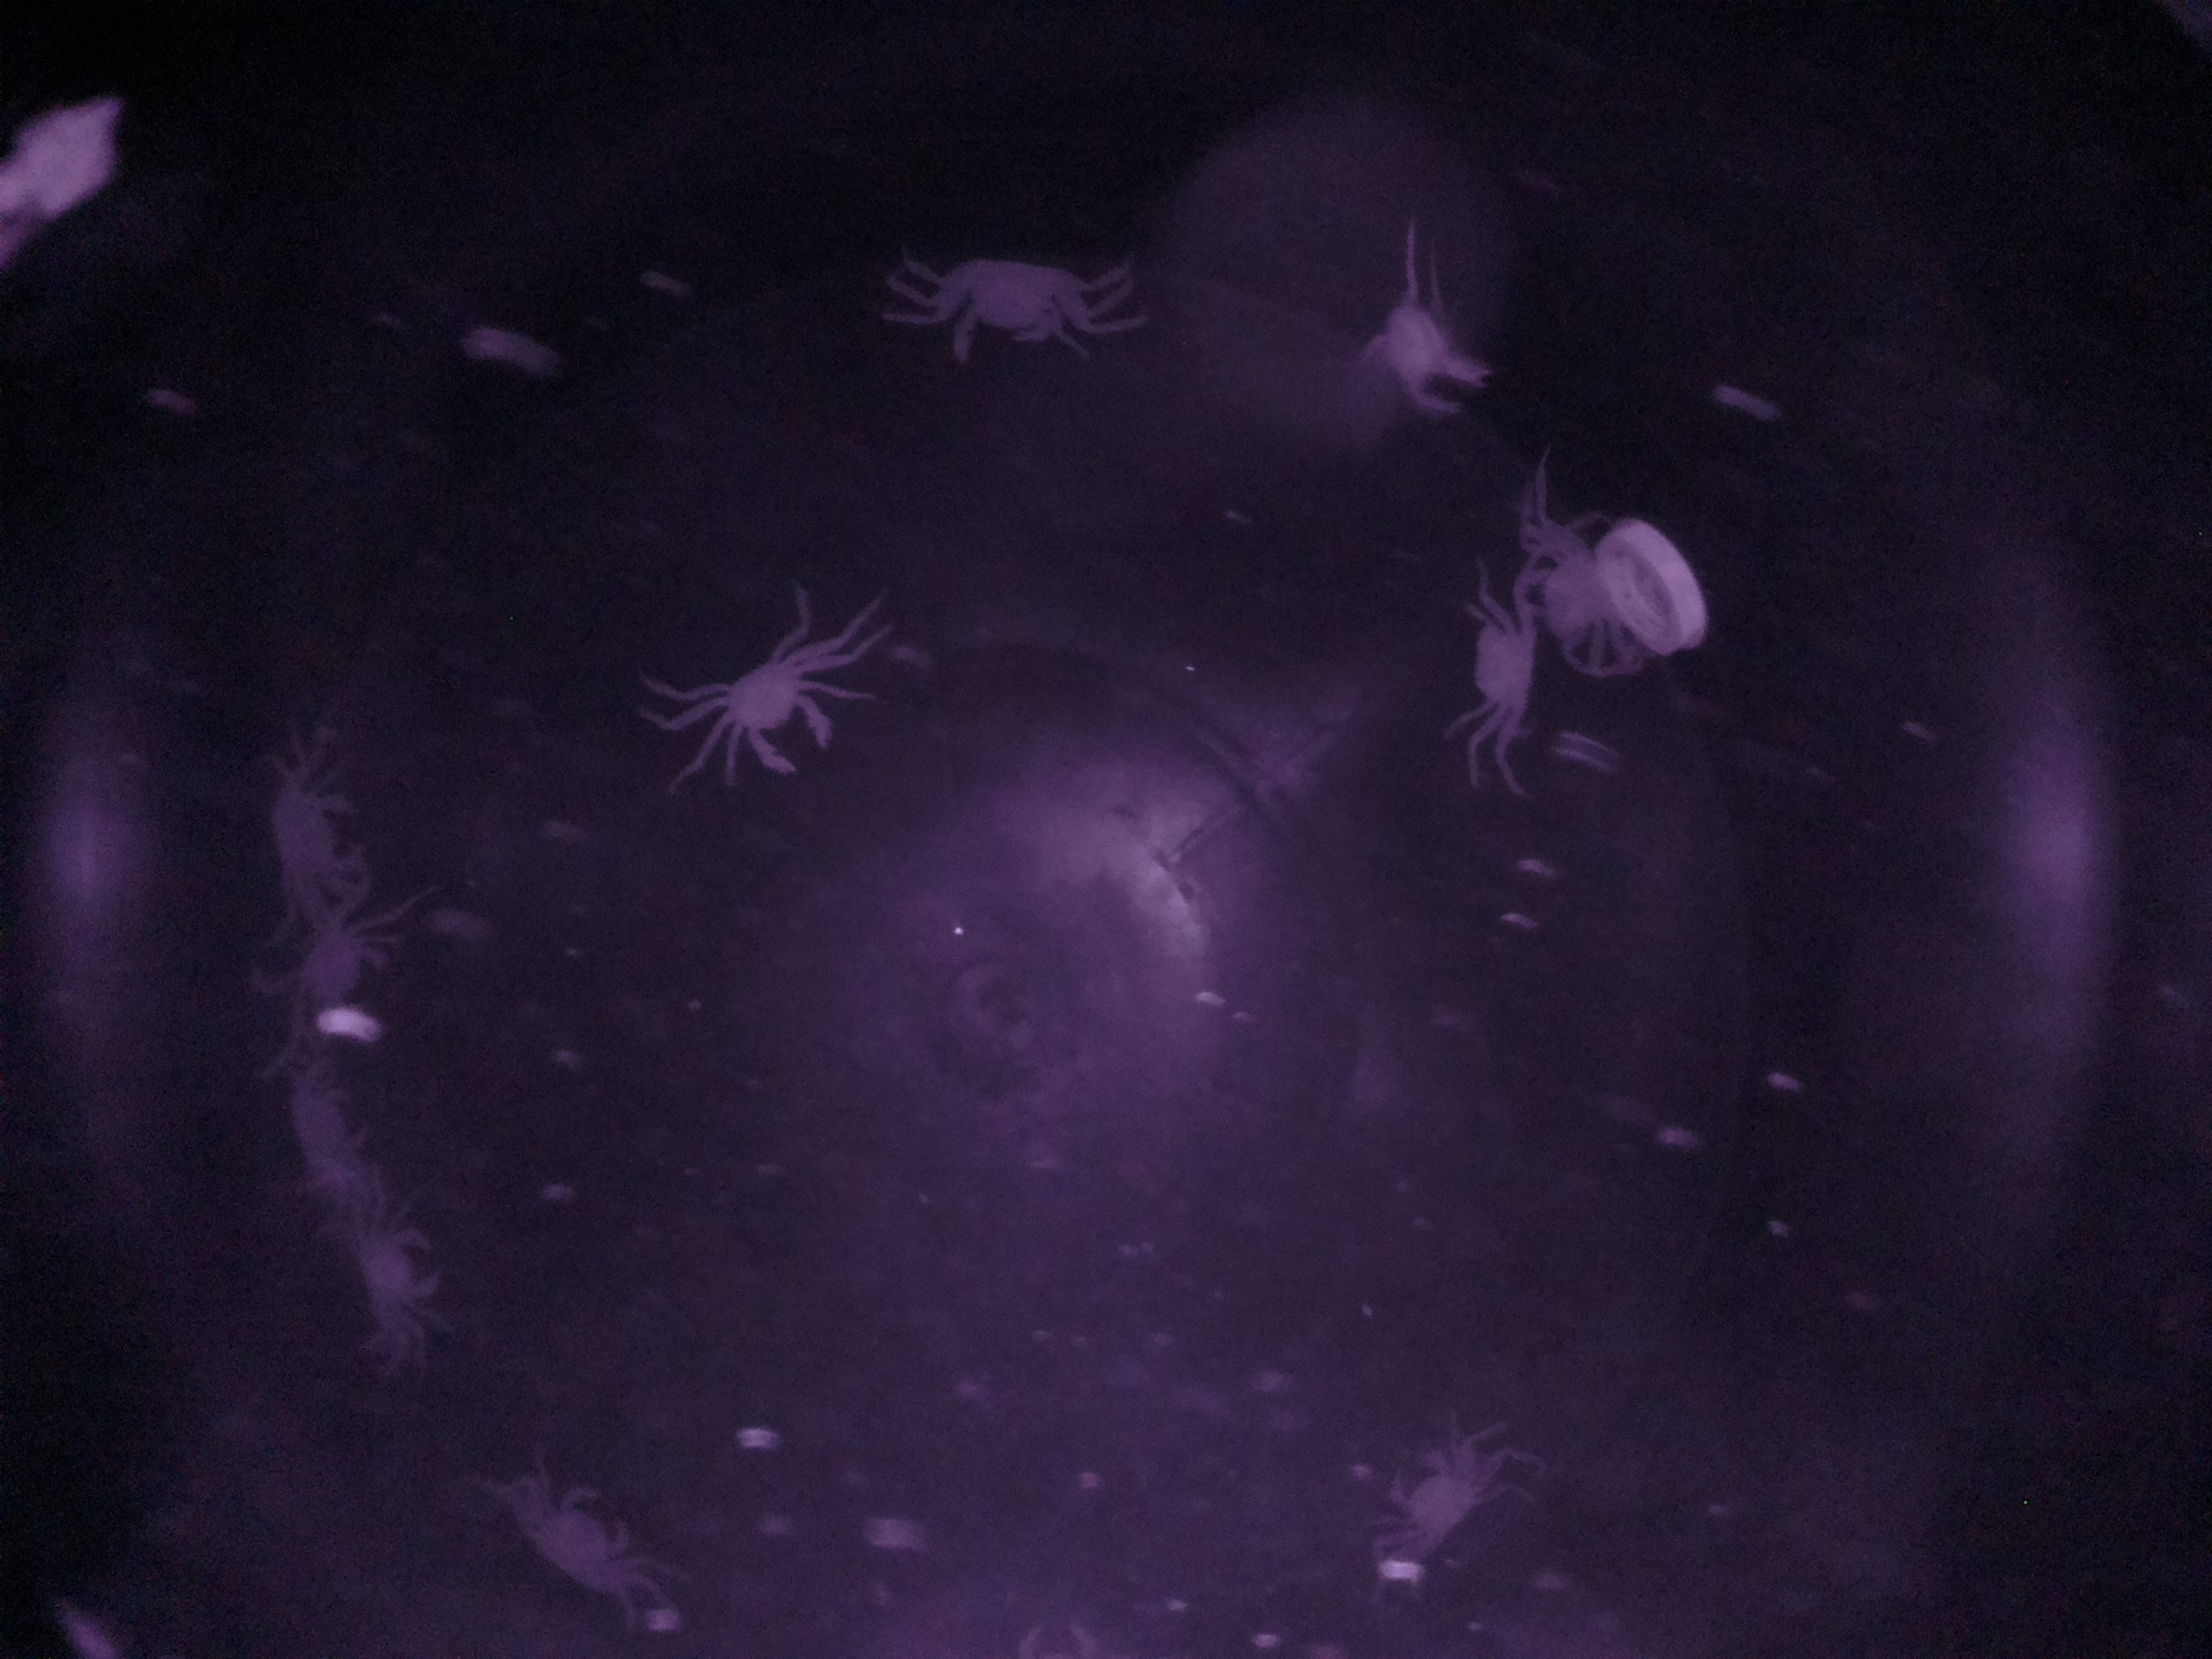Crab: (909, 214, 1118, 378), (691, 610, 850, 793), (319, 1166, 465, 1363), (1432, 565, 1566, 762), (247, 739, 394, 917), (1360, 1420, 1510, 1579), (517, 1457, 657, 1617)
